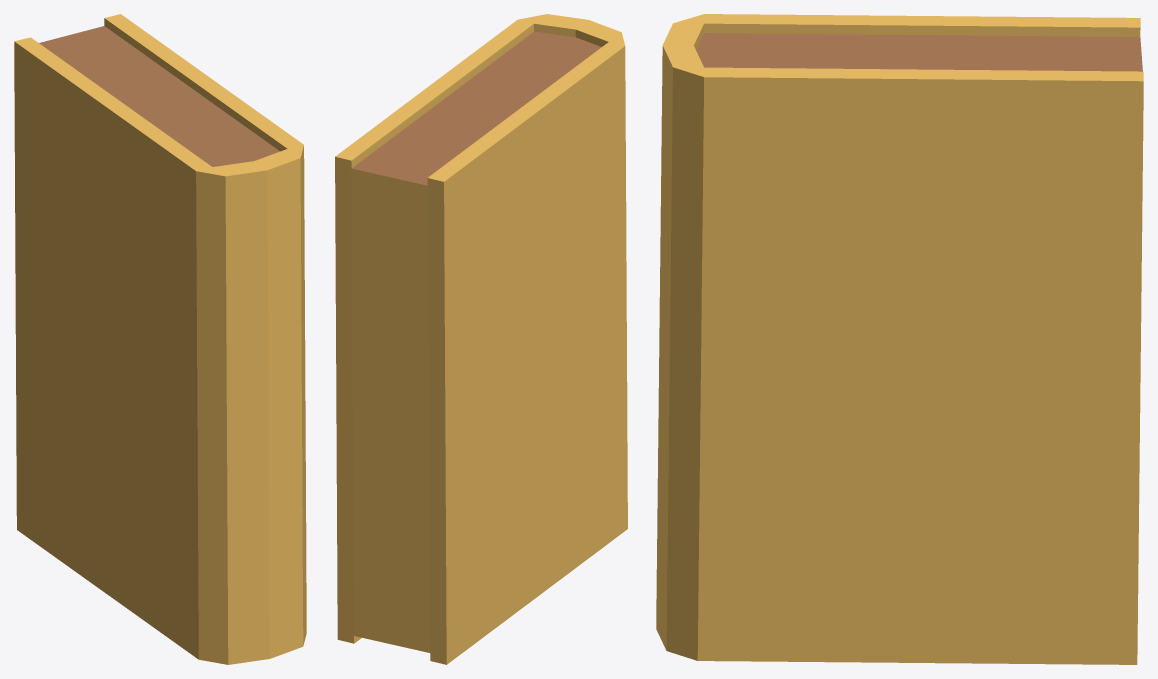
Rendered from Libro_2.fbx.
3 views of the same model, side by side, from view 1: azimuth 30°, elevation 25°; view 2: azimuth 150°, elevation 25°; view 3: azimuth 270°, elevation 25° (orthographic). The views are drawn at different scales.
Visible parts, largest first — view 1: Cube.022; view 2: Cube.022; view 3: Cube.022.
Part boxes in pixels (x1,y1,x2,y2): Cube.022: [14, 14, 306, 664]; Cube.022: [335, 14, 627, 664]; Cube.022: [656, 14, 1143, 664].
Bounding box in the file's own units: 8.4 × 36.43 × 27.37.
